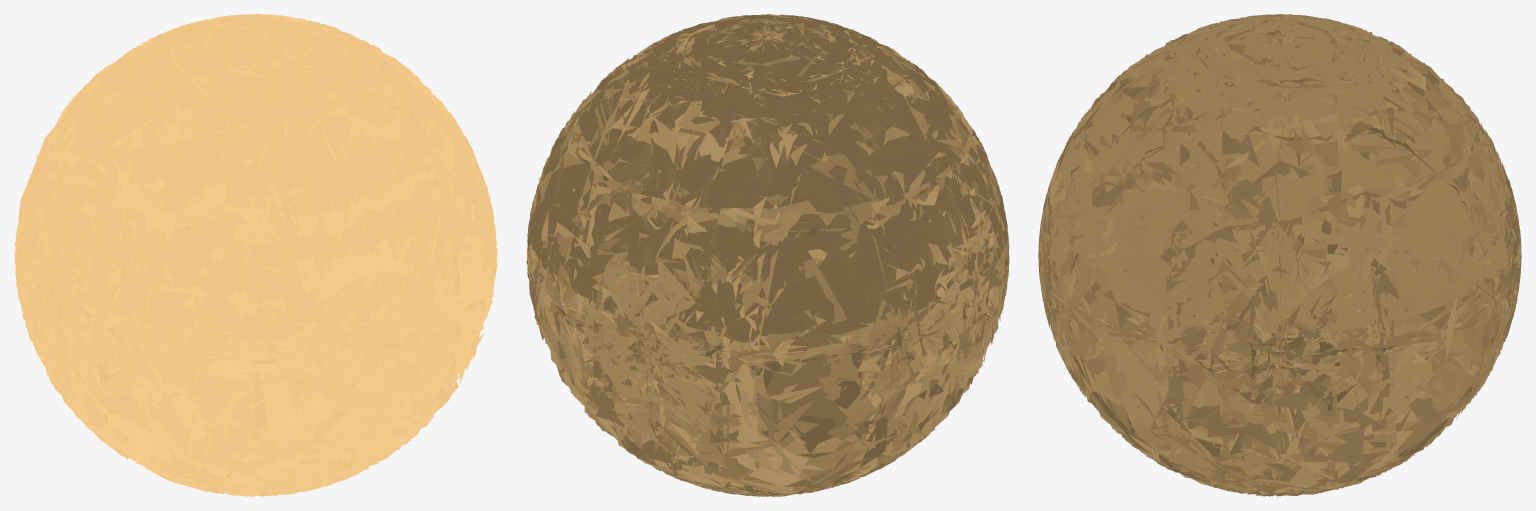
The model's file is stage10.glb.
3 renders of one model, left to right at view 1: azimuth 30°, elevation 25°; view 2: azimuth 150°, elevation 25°; view 3: azimuth 270°, elevation 25°, orthographic.
Visible parts, largest first — view 1: ehouse-10-equipment; view 2: ehouse-10-equipment; view 3: ehouse-10-equipment.
Part boxes in pixels (left/top/right/bottom): ehouse-10-equipment: left=14, top=14, right=497, bottom=496; ehouse-10-equipment: left=526, top=14, right=1009, bottom=496; ehouse-10-equipment: left=1038, top=14, right=1521, bottom=496.
Size of the model in its own units: 2 by 2 by 2.
